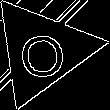O_N: (15, 22, 69, 79)
